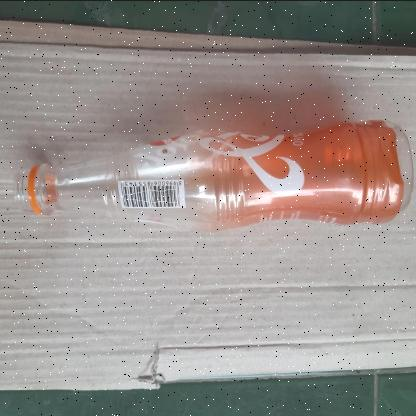Plastic Bottle: (15, 118, 416, 236)
